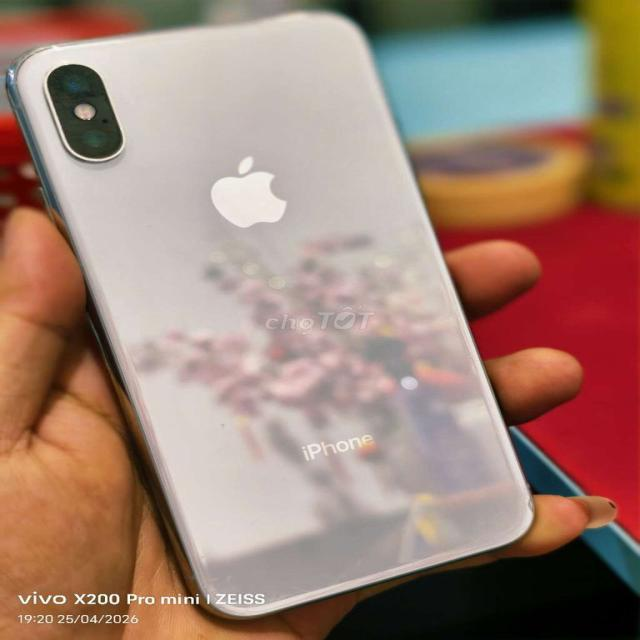scratch: (174, 561, 334, 621), (210, 411, 245, 444)
